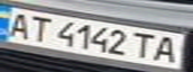1: (72, 21, 93, 51)
2: (106, 27, 133, 57)
4: (51, 19, 78, 48), (90, 25, 112, 53)
A: (0, 10, 36, 39), (151, 34, 184, 64)
T: (127, 29, 160, 61), (24, 14, 57, 43)
